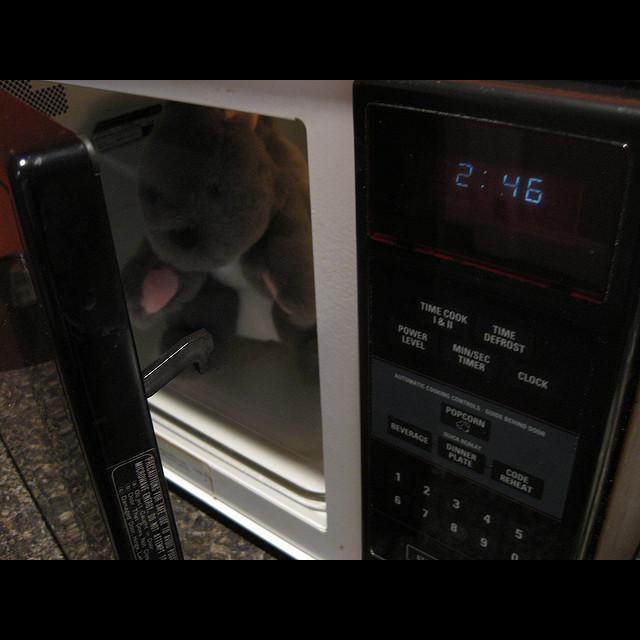Microwave: (2, 81, 640, 560)
